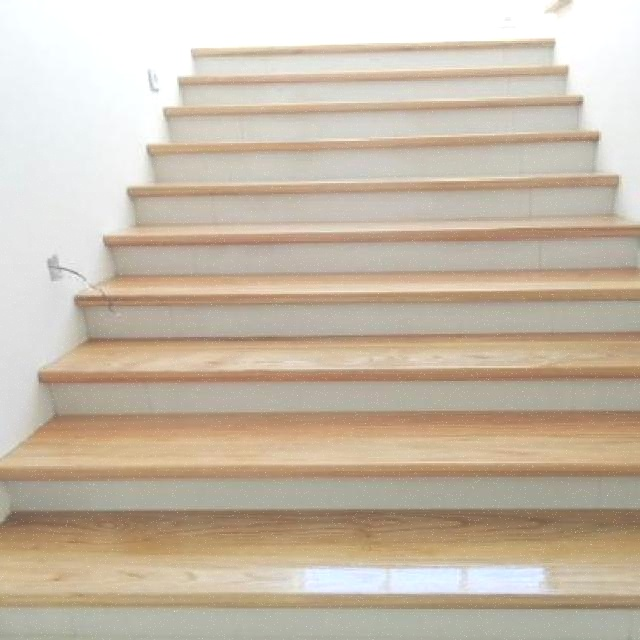stair: (2, 0, 640, 626)
